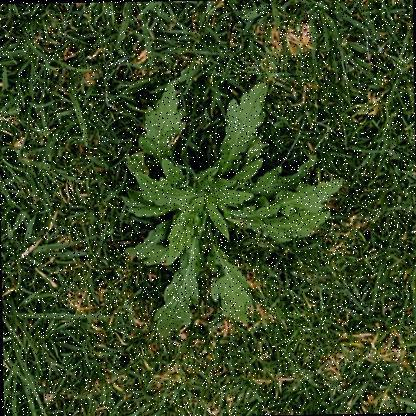Weeds: (121, 78, 344, 338)
